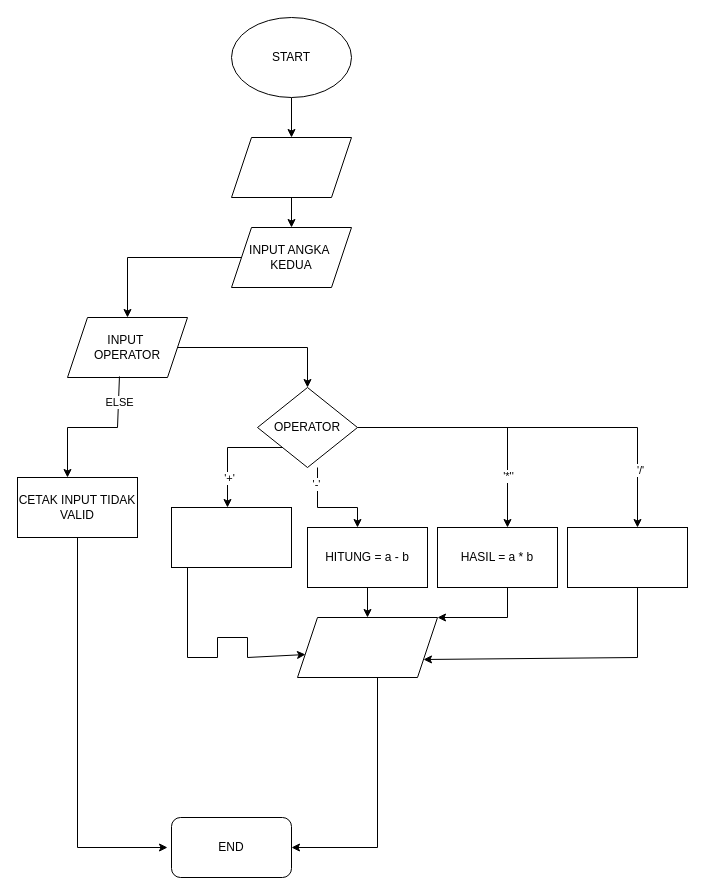
Image size: 705x895. Some labels were removed from this diagram. Each missing label, with the centre of its shape:
"CETAK HASILNYA" goes at point (367, 647).
"HASIL = a + b" goes at point (231, 537).
"HASIL = a / b" goes at point (627, 557).
"INPUT ANGKA PERTAMA" goes at point (291, 167).
